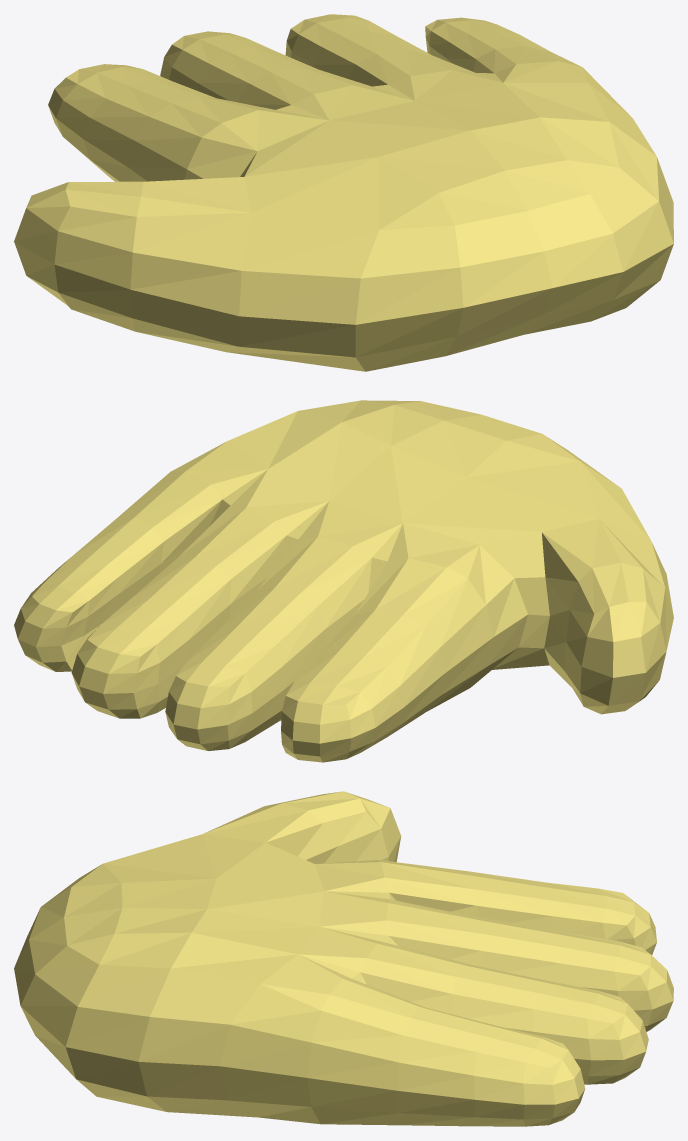
File: hand.glb
The picture shows the model from 3 angles, top to bottom: view 1: azimuth 30°, elevation 25°; view 2: azimuth 150°, elevation 25°; view 3: azimuth 270°, elevation 25°; orthographic projection. The views are drawn at different scales.
Visible parts, largest first — view 1: hand; view 2: hand; view 3: hand.
Part boxes in pixels (x1=…): hand: x1=14, y1=14, x2=673, y2=371; hand: x1=14, y1=400, x2=673, y2=762; hand: x1=14, y1=791, x2=673, y2=1126.
Bounding box in the file's own units: 0.9652 × 0.2746 × 1.02.
